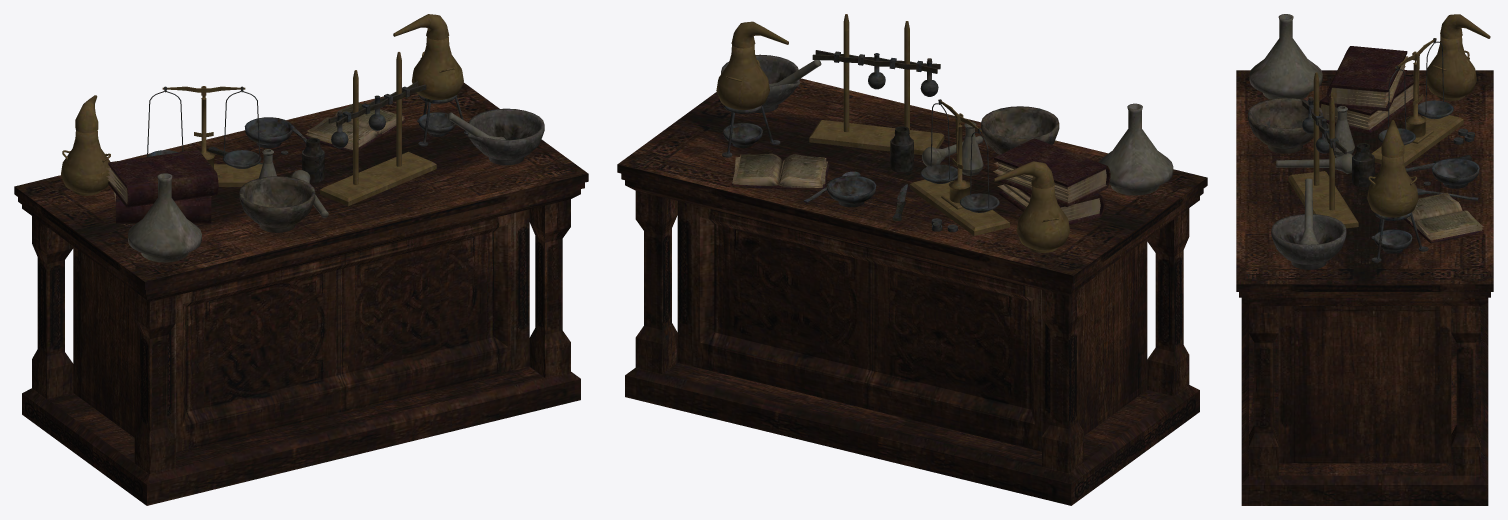
Rendered from G3_Object_Interact_Alchemy_Table_01.obj.
The picture shows the model from 3 angles, left to right: view 1: azimuth 30°, elevation 25°; view 2: azimuth 150°, elevation 25°; view 3: azimuth 270°, elevation 25°; orthographic projection. The views are drawn at different scales.
Parts seen in each view (by area): view 1: G3_Object_Interact_Alchemy_Table_01_0; view 2: G3_Object_Interact_Alchemy_Table_01_0; view 3: G3_Object_Interact_Alchemy_Table_01_0.
Boxes of the visible parts, x1=… form: G3_Object_Interact_Alchemy_Table_01_0: x1=14, y1=14, x2=588, y2=505; G3_Object_Interact_Alchemy_Table_01_0: x1=617, y1=14, x2=1207, y2=505; G3_Object_Interact_Alchemy_Table_01_0: x1=1236, y1=14, x2=1493, y2=505.
Bounding box in the file's own units: 2.05 × 1.53 × 1.04.
1 material, 1 textured.
